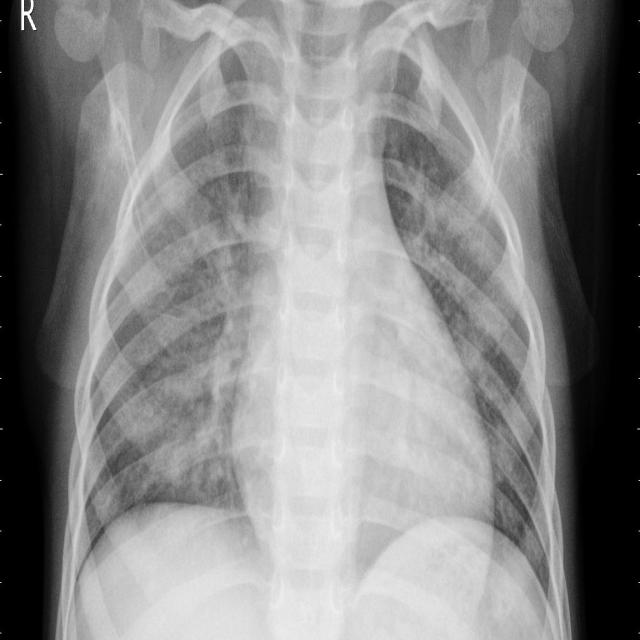low-pneumonia: (147, 172, 258, 509), (398, 140, 517, 422)
